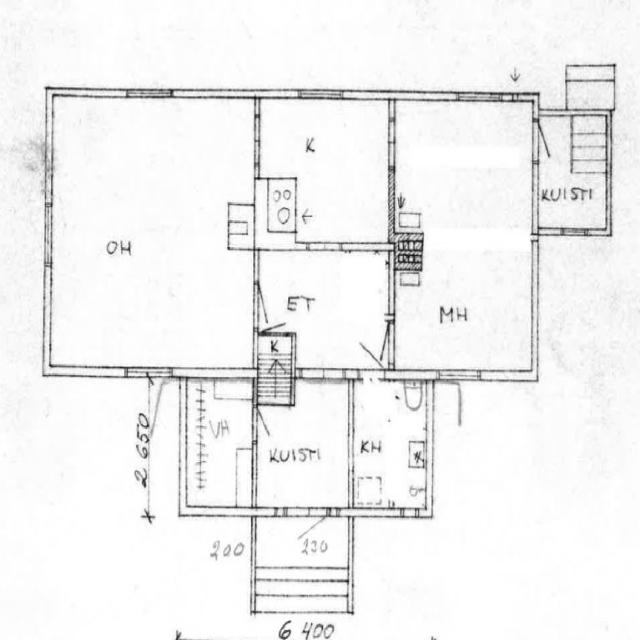door: (47, 92, 260, 371), (355, 327, 390, 379), (401, 378, 426, 416)
window: (40, 192, 58, 271), (382, 253, 398, 319), (401, 506, 420, 520)
zone: (0, 377, 152, 640), (393, 111, 534, 378), (261, 97, 392, 246), (255, 248, 392, 370), (254, 382, 353, 514), (350, 377, 429, 513), (249, 514, 354, 614), (184, 376, 256, 514), (536, 112, 608, 232), (257, 331, 295, 403), (265, 177, 297, 245)
